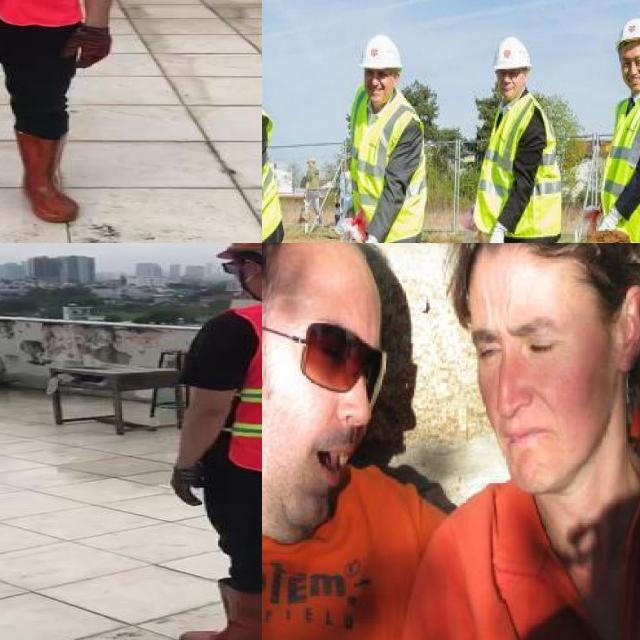boots: (14, 126, 80, 223), (179, 582, 262, 640)
face_nomask: (282, 322, 386, 490), (466, 323, 584, 467)
glasses: (262, 306, 381, 391)
hand_glove: (57, 30, 115, 70), (167, 465, 206, 507)
head_helmet: (482, 30, 546, 88), (348, 26, 412, 83), (607, 9, 640, 74)
head_nohelmet: (447, 243, 640, 299), (262, 243, 373, 278)
person: (434, 243, 640, 640), (262, 243, 414, 640), (155, 243, 262, 640), (0, 0, 139, 243), (316, 20, 439, 243), (460, 25, 585, 243), (584, 11, 640, 243)
vest: (338, 74, 442, 243), (464, 89, 576, 243), (592, 75, 640, 243), (223, 302, 262, 471), (262, 73, 293, 243)
